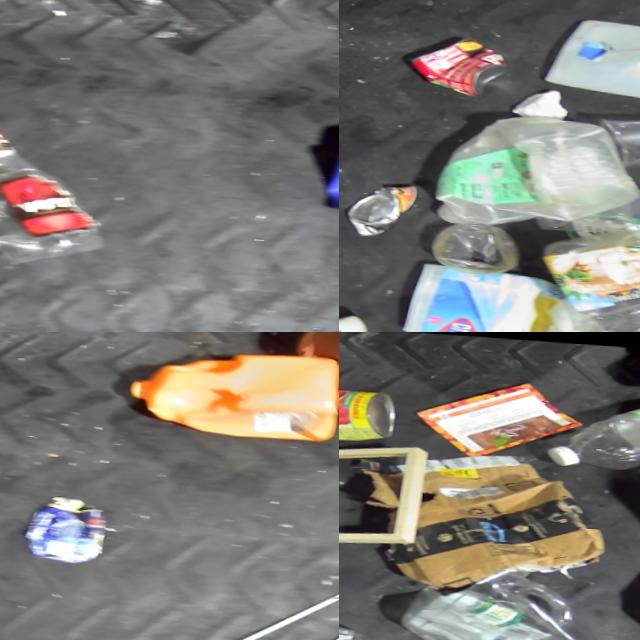can: (539, 386, 640, 472), (28, 491, 120, 563), (416, 35, 519, 99), (349, 175, 423, 231), (339, 380, 400, 439)
milk_jug: (423, 106, 640, 230), (545, 9, 640, 104)
non_white_jug: (110, 336, 339, 437), (421, 266, 603, 332)
plastic_bottle: (550, 233, 640, 332)
